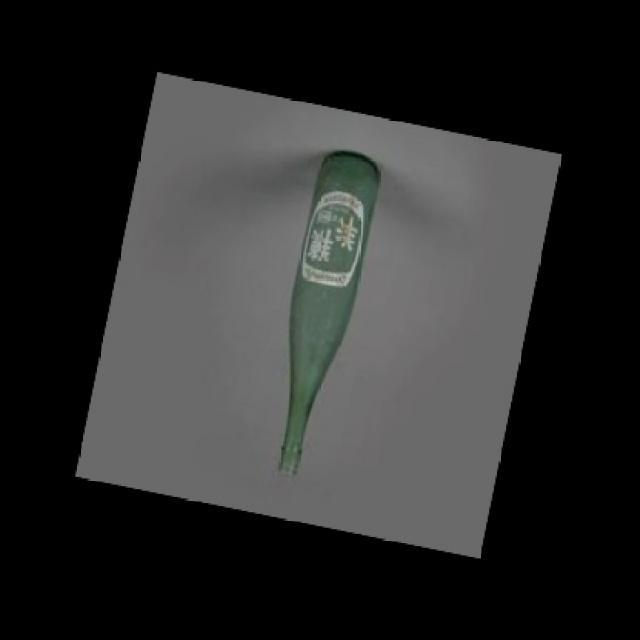Glass: (277, 150, 382, 476)
